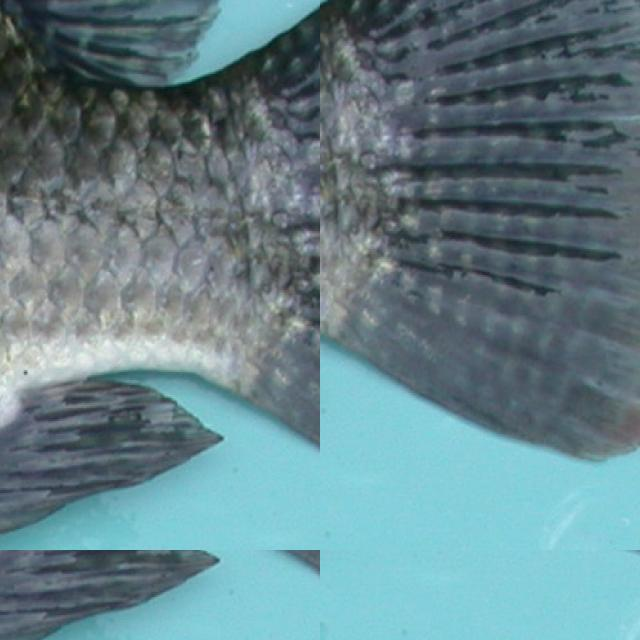fish: (320, 550, 640, 640), (0, 550, 165, 640)
